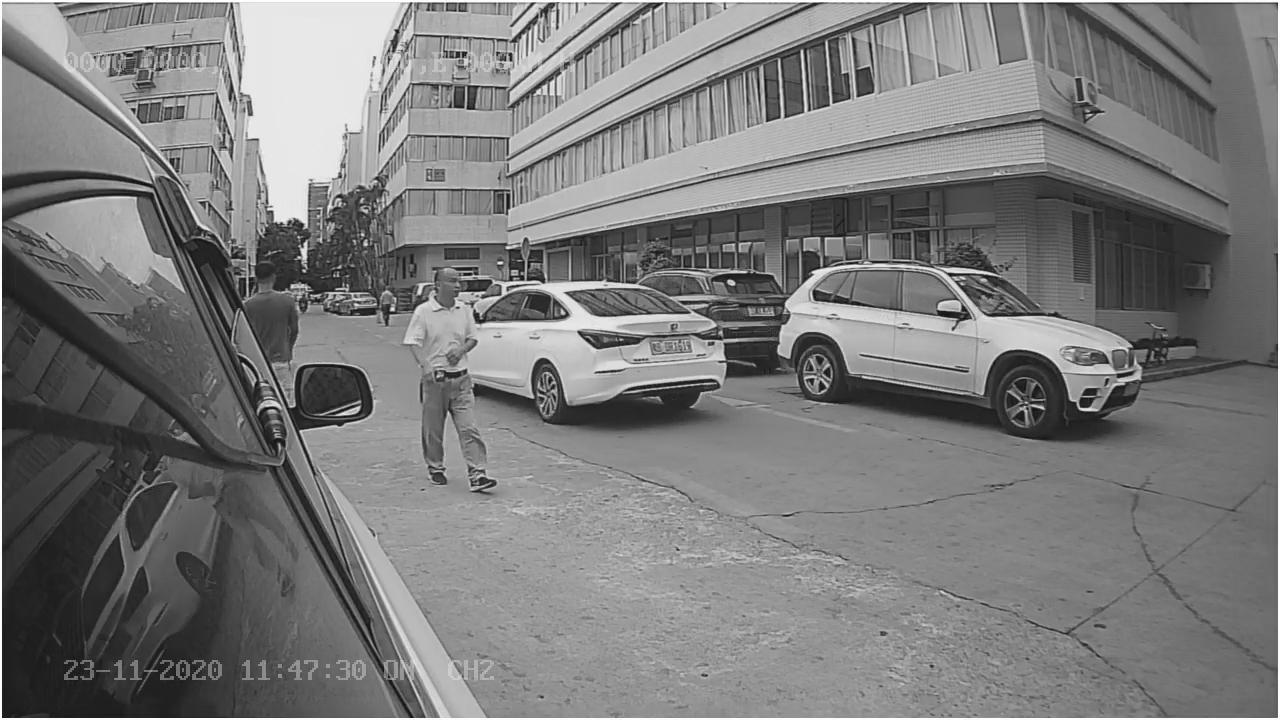person: (400, 262, 500, 490)
